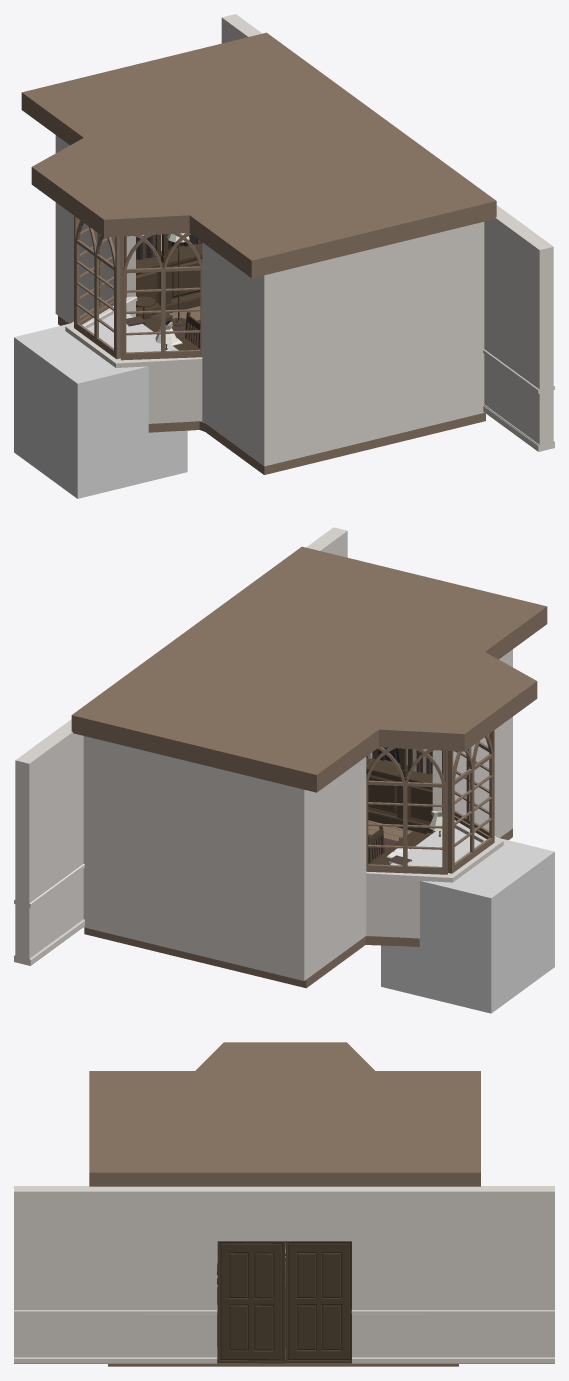
Rendered from Room.glb.
The picture shows the model from 3 angles, top to bottom: view 1: azimuth 30°, elevation 25°; view 2: azimuth 150°, elevation 25°; view 3: azimuth 270°, elevation 25°; orthographic projection. The views are drawn at different scales.
Parts seen in each view (by area): view 1: ceiling, L.Side.005, Cube, back, back.002, window.Frame.001, Cube.008, Cube.005, Cylinder.003, L.Side.001, Cylinder.001; view 2: ceiling, L.Side.001, Cube, back, back.002, Cube.001, Cylinder.001, Cube.008, Cylinder.003, window.Frame.001, book.wall.002; view 3: back.002, ceiling, Door.002, Door.001, Cube.008.
Boxes of the visible parts, box(x1,y1,x2,y2) form: ceiling: box(21, 32, 496, 278); L.Side.005: box(255, 222, 484, 466); Cube: box(14, 314, 187, 498); back: box(64, 141, 263, 459); back.002: box(221, 14, 554, 451); window.Frame.001: box(120, 233, 202, 360); Cube.008: box(58, 306, 485, 474); Cube.005: box(136, 234, 202, 319); Cylinder.003: box(74, 216, 120, 359); L.Side.001: box(55, 135, 64, 319); Cylinder.001: box(79, 219, 126, 324); ceiling: box(71, 546, 547, 792); L.Side.001: box(83, 736, 313, 980); Cube: box(381, 828, 554, 1013); back: box(302, 654, 512, 974); back.002: box(14, 527, 347, 965); Cube.001: box(366, 748, 432, 833); Cylinder.001: box(366, 747, 447, 874); Cube.008: box(84, 820, 512, 988); Cylinder.003: box(448, 730, 494, 873); window.Frame.001: box(442, 734, 489, 838); book.wall.002: box(366, 747, 432, 774); back.002: box(14, 1186, 554, 1363); ceiling: box(89, 1042, 480, 1186); Door.002: box(217, 1241, 284, 1363); Door.001: box(285, 1241, 351, 1362); Cube.008: box(108, 1266, 458, 1366).
Size of the model in its own units: 6.35 by 4.81 by 10.
